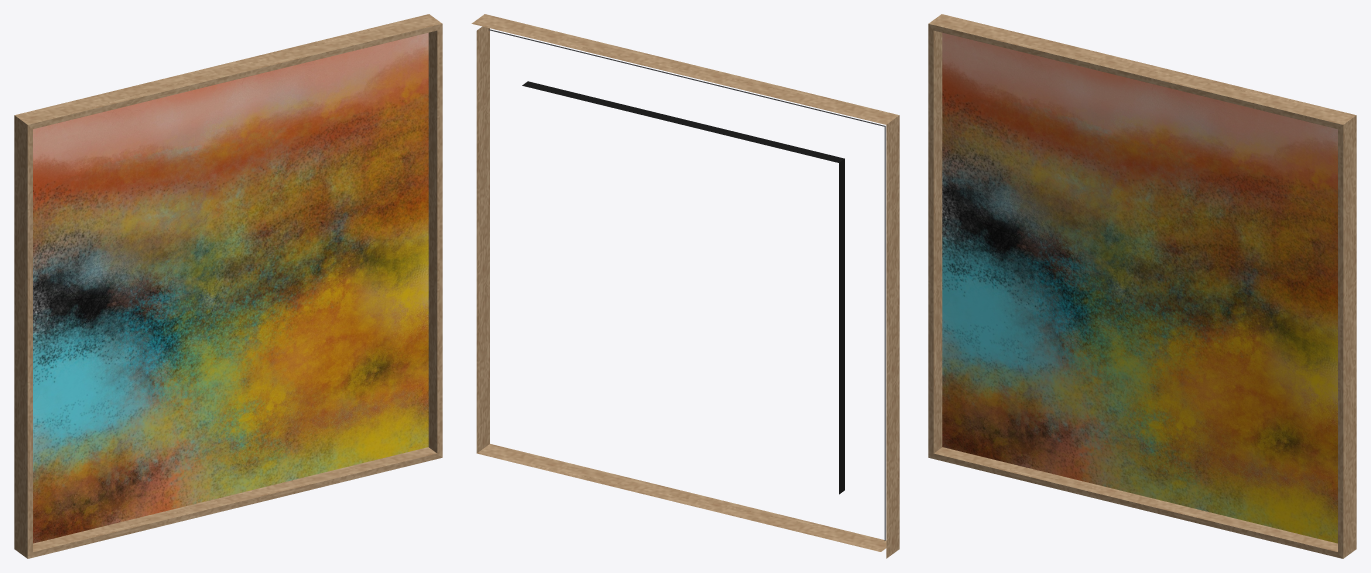
The model's file is va238_moyen_caisse-chene.glb.
3 views of the same model, side by side, from view 1: azimuth 30°, elevation 25°; view 2: azimuth 150°, elevation 25°; view 3: azimuth 330°, elevation 25° (orthographic).
Parts seen in each view (by area): view 1: va238_moyen_caisse-chene; view 2: va238_moyen_caisse-chene; view 3: va238_moyen_caisse-chene.
Boxes of the visible parts, x1,y1,x2,y2 form: va238_moyen_caisse-chene: (14,14,442,558); va238_moyen_caisse-chene: (471,14,899,558); va238_moyen_caisse-chene: (928,14,1356,558).
Bounding box in the file's own units: 0.628 × 0.628 × 0.035.
Materials: 4 (2 with a texture image).
